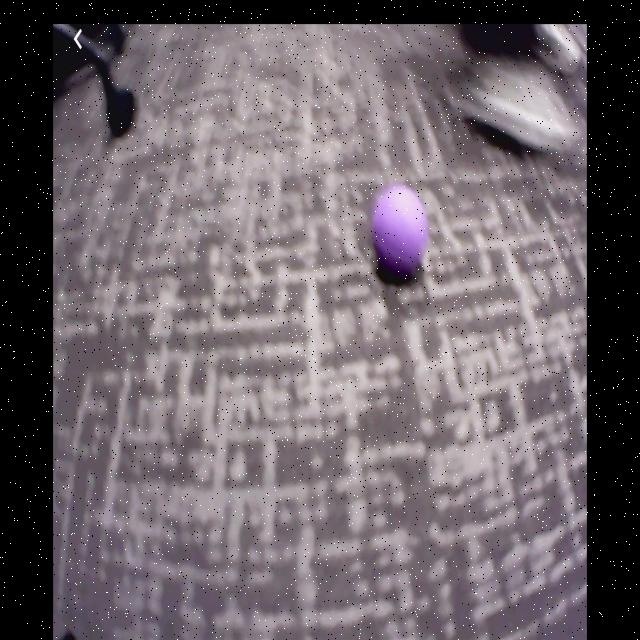ball: (376, 185, 430, 271)
